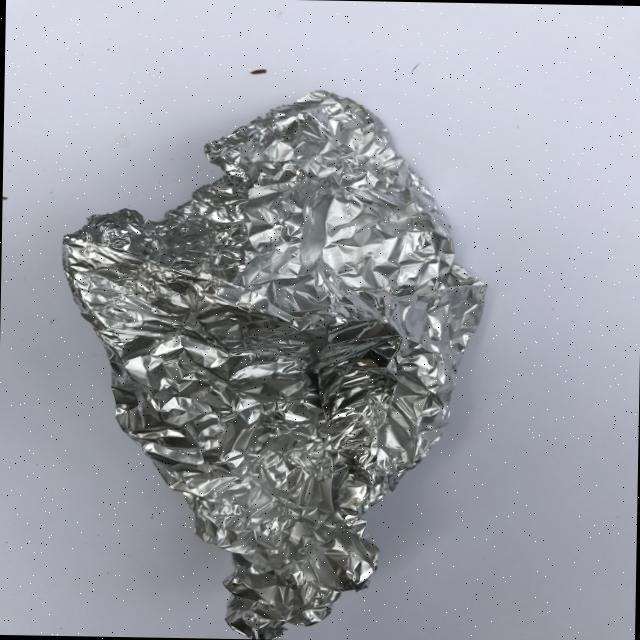metal: (54, 83, 491, 640)
